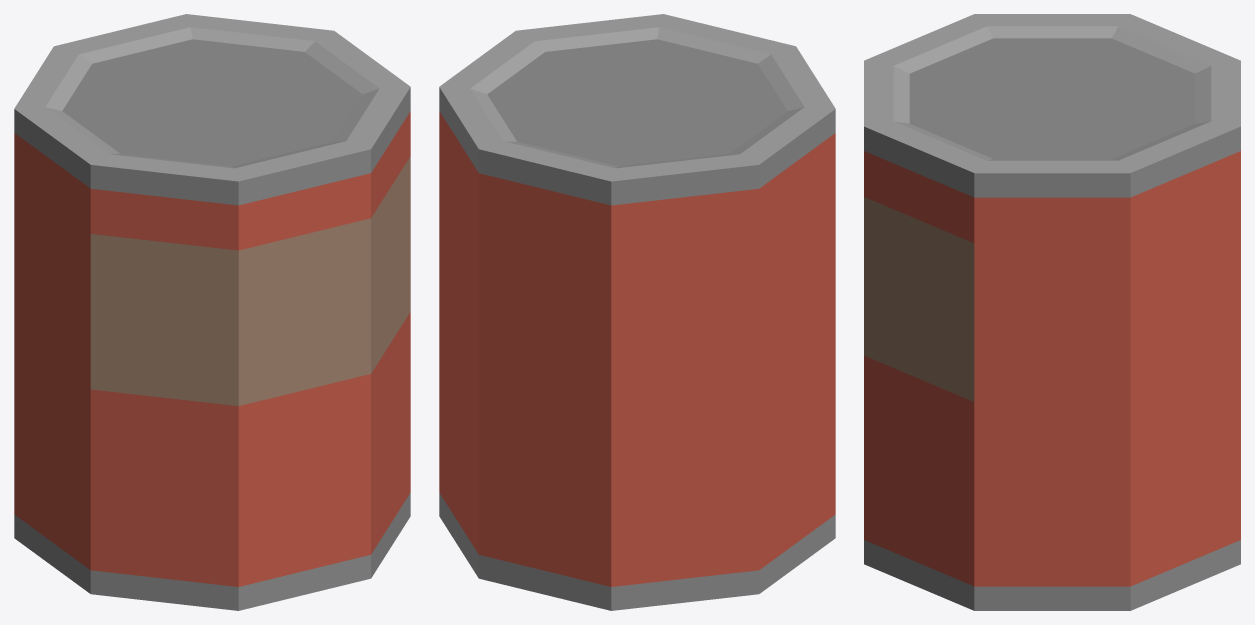
Rendered from SM_Food_CannedFood_01.fbx.
The picture shows the model from 3 angles, left to right: view 1: azimuth 30°, elevation 25°; view 2: azimuth 150°, elevation 25°; view 3: azimuth 270°, elevation 25°; orthographic projection.
Visible parts, largest first — view 1: SM_Food_CannedFood_01; view 2: SM_Food_CannedFood_01; view 3: SM_Food_CannedFood_01.
Boxes of the visible parts, x1=… form: SM_Food_CannedFood_01: x1=14, y1=14, x2=410, y2=610; SM_Food_CannedFood_01: x1=439, y1=14, x2=835, y2=610; SM_Food_CannedFood_01: x1=864, y1=14, x2=1240, y2=610.
Bounding box in the file's own units: 0.1156 × 0.1482 × 0.1156.
